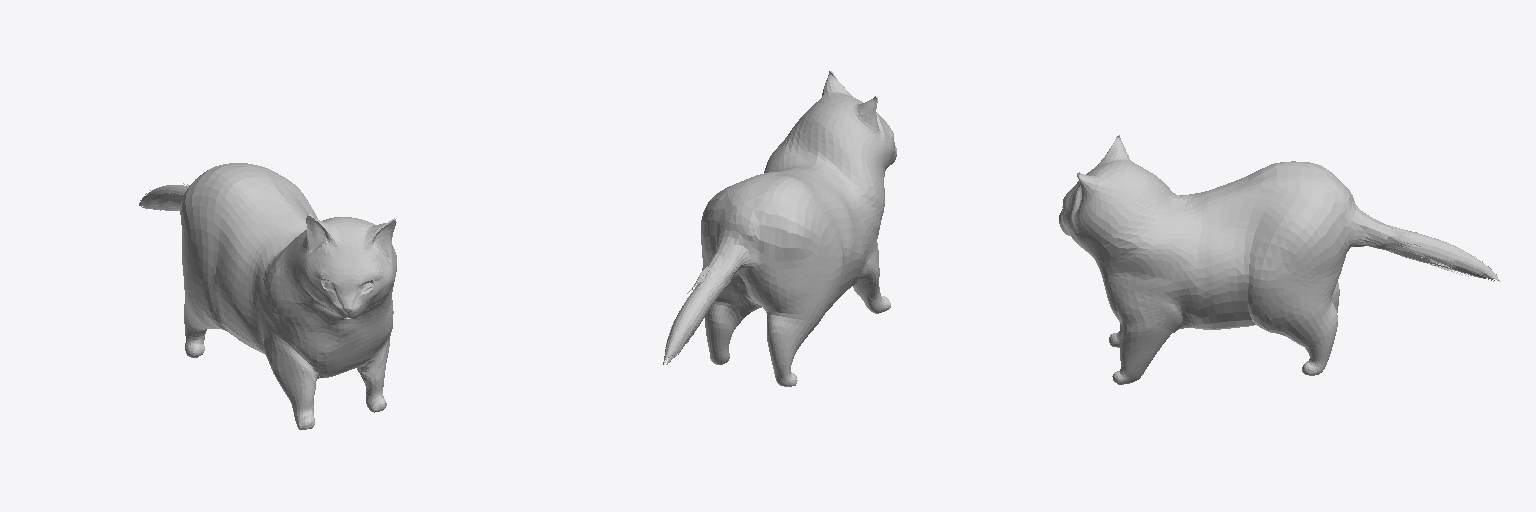
The model's file is cat.obj.
The picture shows the model from 3 angles: view 1: azimuth 30°, elevation 25°; view 2: azimuth 150°, elevation 25°; view 3: azimuth 270°, elevation 25°; orthographic projection.
Parts seen in each view (by area): view 1: 0; view 2: 0; view 3: 0.
Part boxes in pixels (x1,y1,x2,y2): 0: (139, 163, 396, 429); 0: (663, 71, 896, 386); 0: (1059, 135, 1500, 384).
Size of the model in its own units: 0.2392 by 0.3866 by 0.7242.